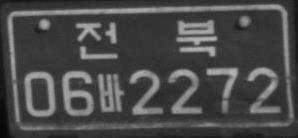0: (23, 70, 56, 117)
2: (167, 67, 203, 114), (247, 65, 281, 114), (129, 69, 163, 115)
6: (61, 69, 95, 116)
7: (205, 66, 239, 115)
바: (96, 72, 125, 112)
전북_D: (76, 17, 218, 60)
